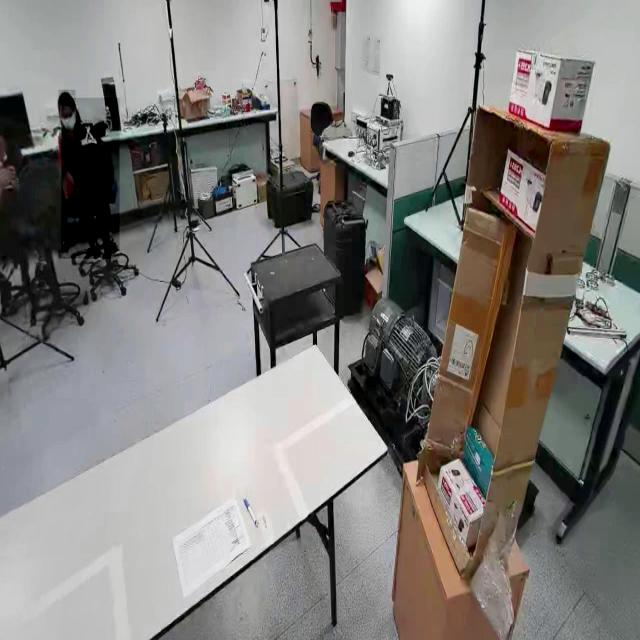face_mask: (60, 106, 78, 140)
head_nohelmet: (58, 90, 76, 104)
person: (61, 98, 119, 260)
